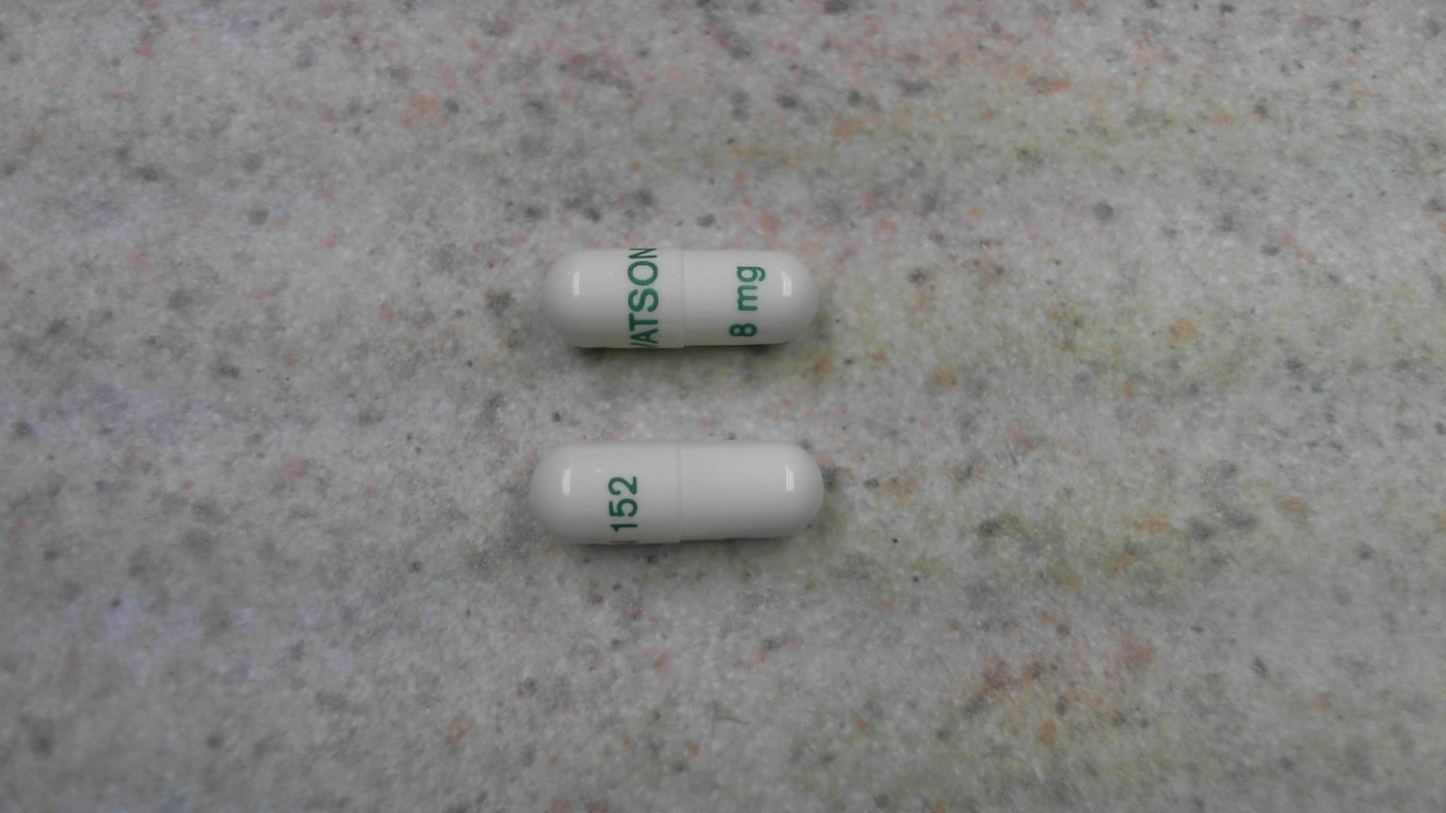Pill: (526, 431, 830, 556), (536, 236, 824, 358)
